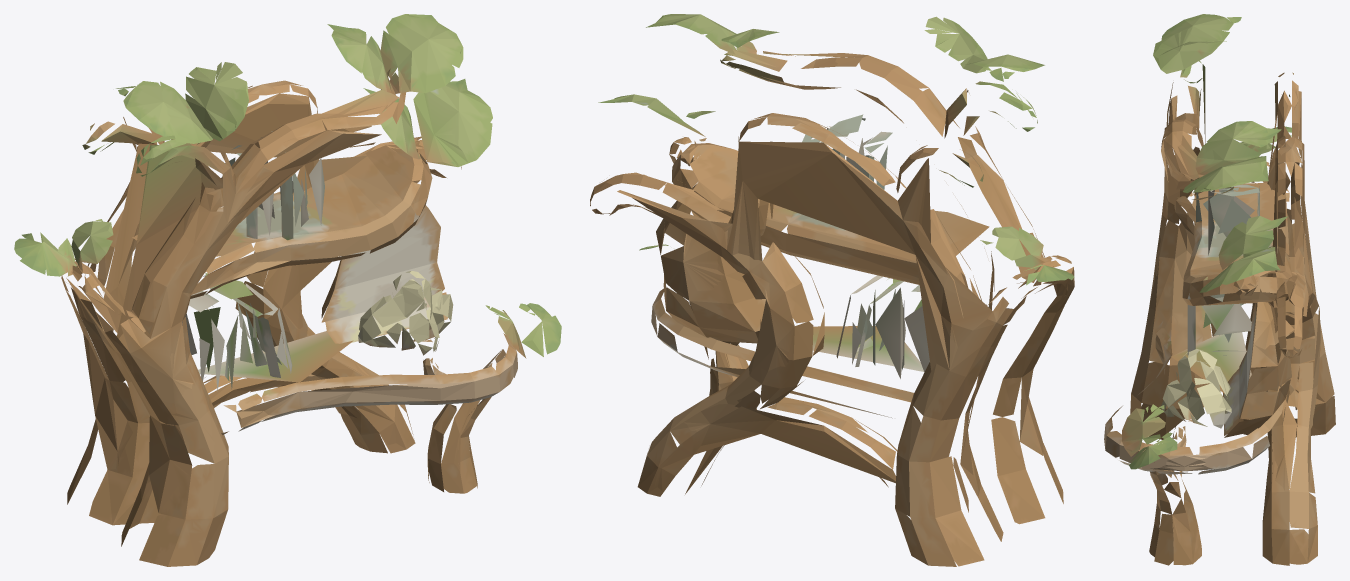
Rendered from g_w_shelf.glb.
The picture shows the model from 3 angles, left to right: view 1: azimuth 30°, elevation 25°; view 2: azimuth 150°, elevation 25°; view 3: azimuth 270°, elevation 25°; orthographic projection. The views are drawn at different scales.
Parts seen in each view (by area): view 1: geometry_0; view 2: geometry_0; view 3: geometry_0.
Part boxes in pixels (<box>): geometry_0: <box>14,14,561,566</box>; geometry_0: <box>590,14,1074,566</box>; geometry_0: <box>1104,14,1335,565</box>.
Bounding box in the file's own units: 0.1904 × 0.1768 × 0.0879.
